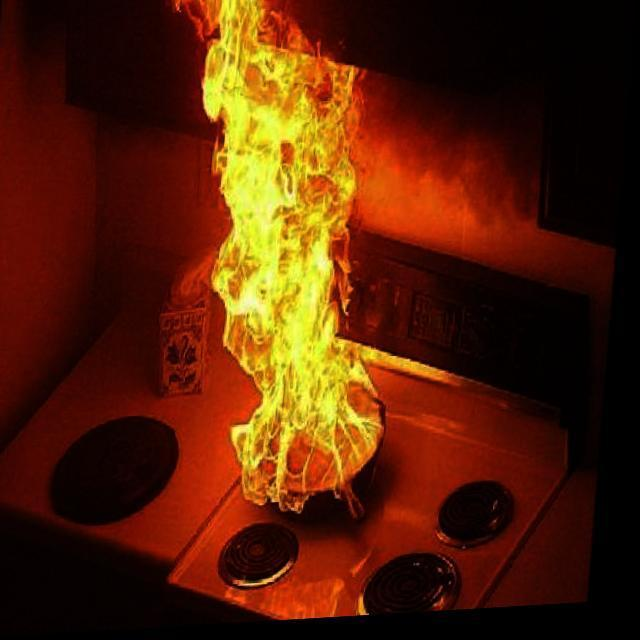Fire: (146, 0, 443, 550)
Smoke: (0, 0, 640, 258)
